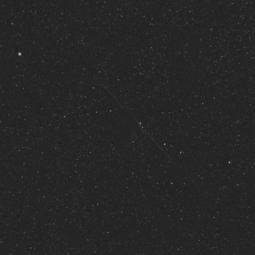double_start: (92, 78, 160, 154)
